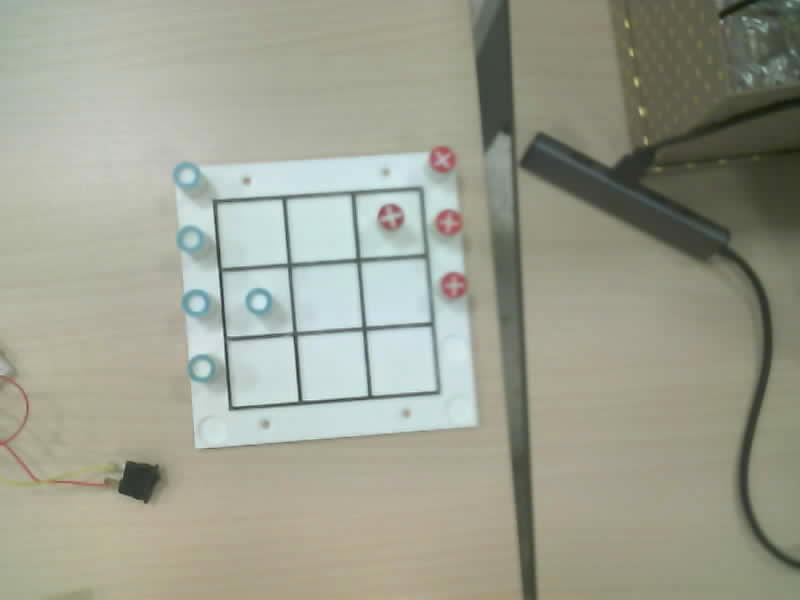blue circle: (176, 225, 205, 253), (187, 354, 215, 382), (181, 289, 210, 316), (173, 162, 201, 189), (245, 288, 272, 314)
board: (173, 148, 476, 447)
cells: (228, 336, 298, 406), (298, 332, 368, 402), (223, 267, 291, 336), (217, 200, 286, 267), (367, 327, 436, 394), (293, 263, 361, 330), (362, 258, 430, 325), (287, 195, 355, 262), (356, 190, 423, 257)
grid: (213, 187, 440, 409)
red cross: (435, 209, 462, 235), (429, 146, 456, 172), (378, 204, 404, 230), (440, 273, 467, 298)
